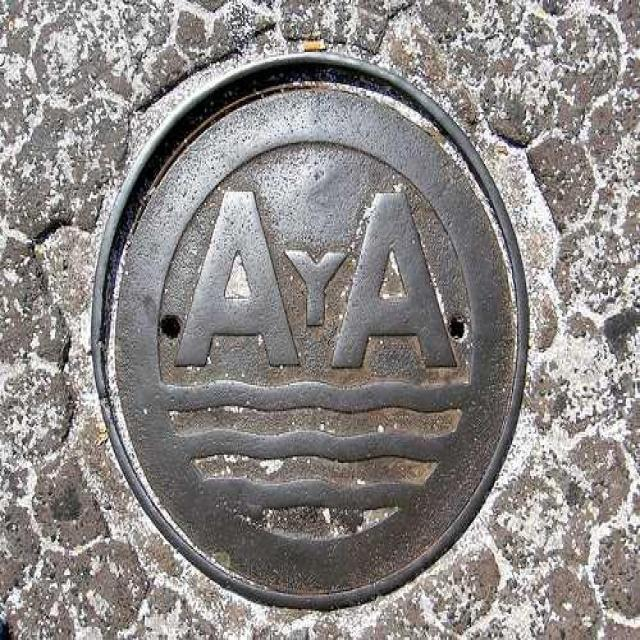manhole: (93, 54, 527, 607)
